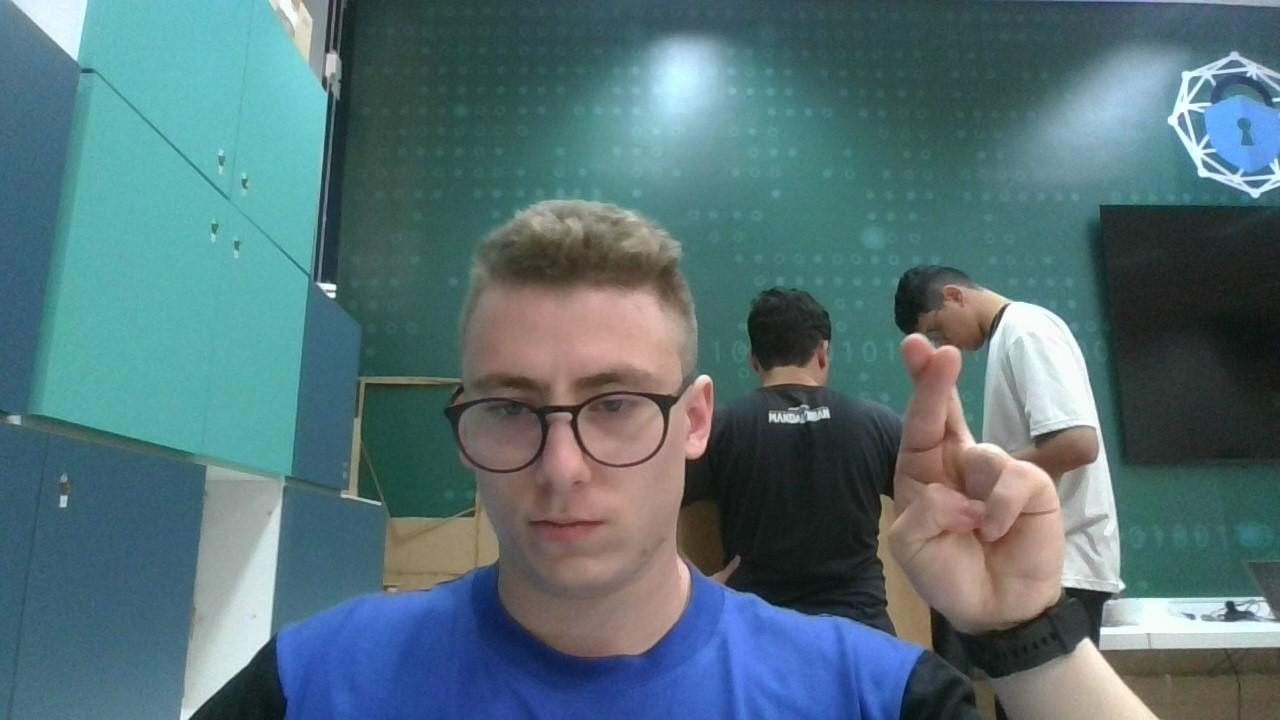R: (886, 332, 1070, 638)
